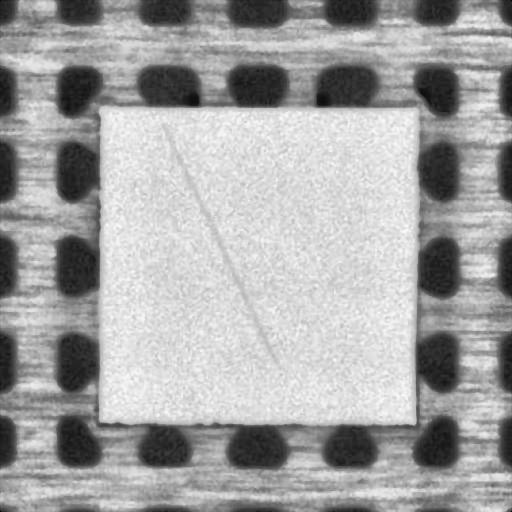DIE_CRACK: (162, 125, 274, 363)
